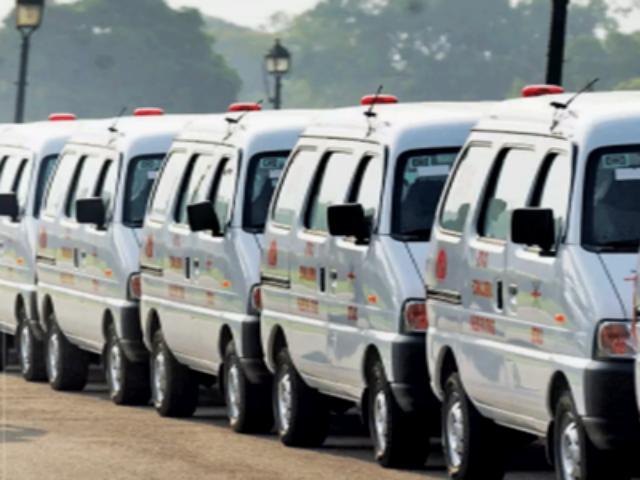ambulance: (426, 86, 640, 480), (262, 81, 486, 452), (127, 92, 340, 429), (28, 104, 209, 404)
